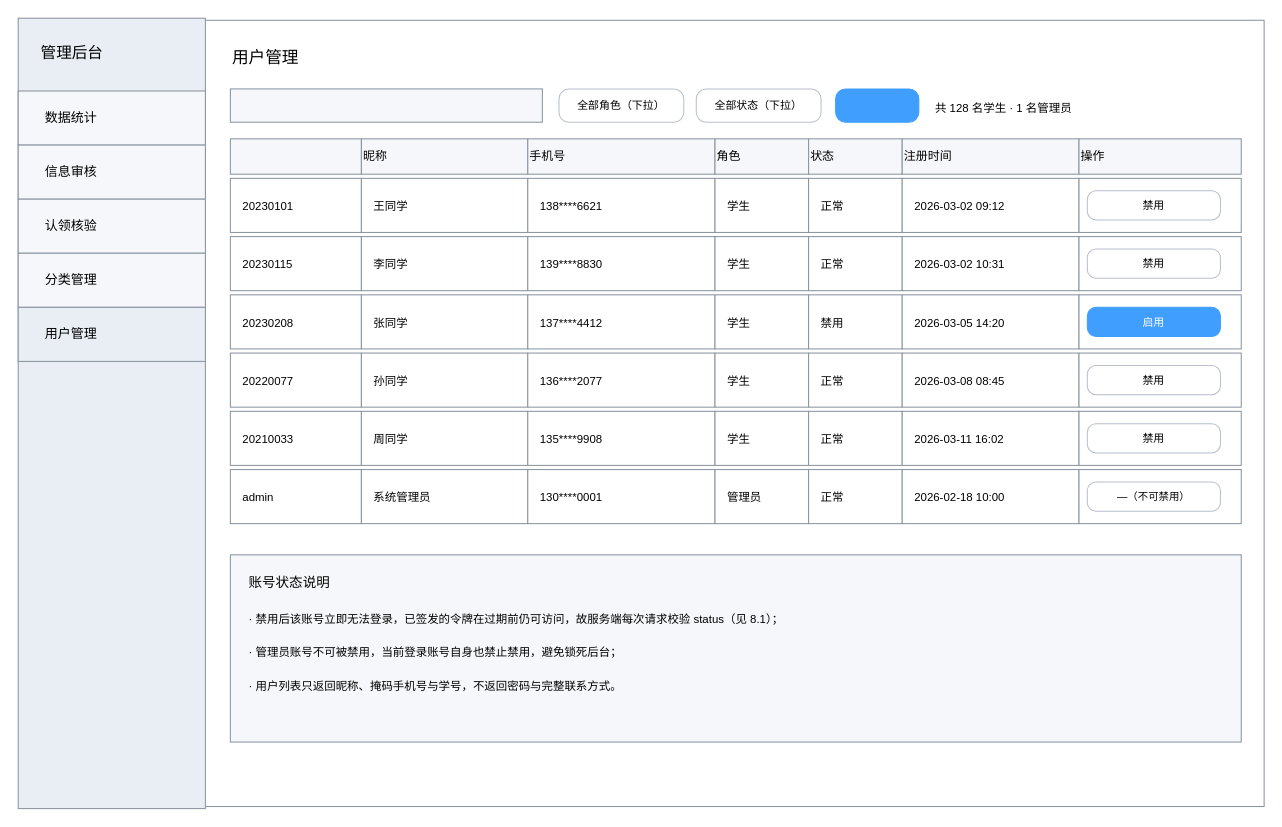
Some shapes in this 1282 by 827 pixel diagram are drawn without their labels. The centre of each missing label's shape, as x and y in pixels:
"学号" goes at [295,156].
"按学号或昵称搜索…" goes at [385,105].
"搜索" goes at [877,105].
